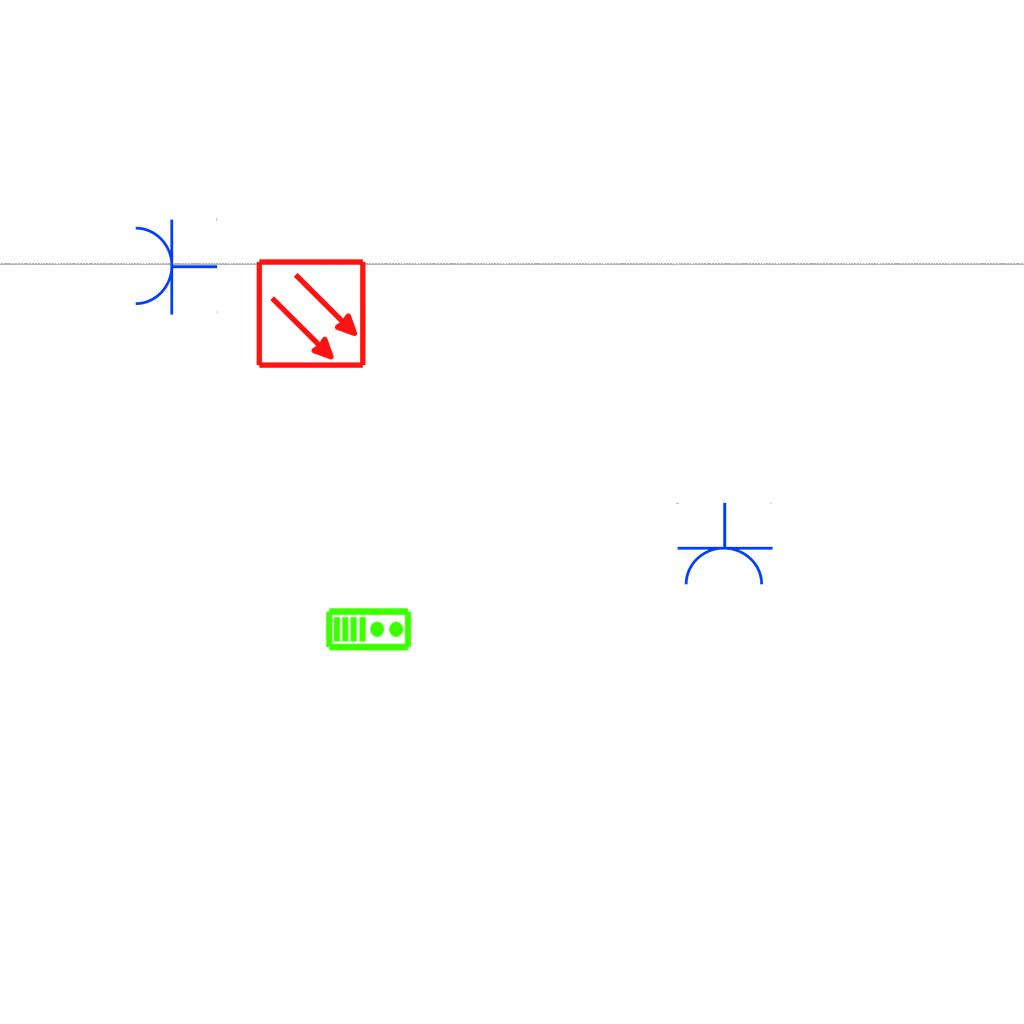Gegensprechanlage_mit_Video: (325, 605, 413, 652)
RMO_Rauchmelder_optischer: (255, 257, 368, 370)
Schukosteckdose_einfach: (131, 216, 218, 316), (674, 502, 774, 589)
